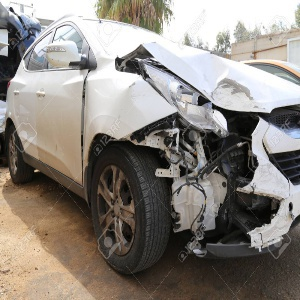bonnet: (150, 41, 297, 112)
bumper: (168, 125, 297, 268)
